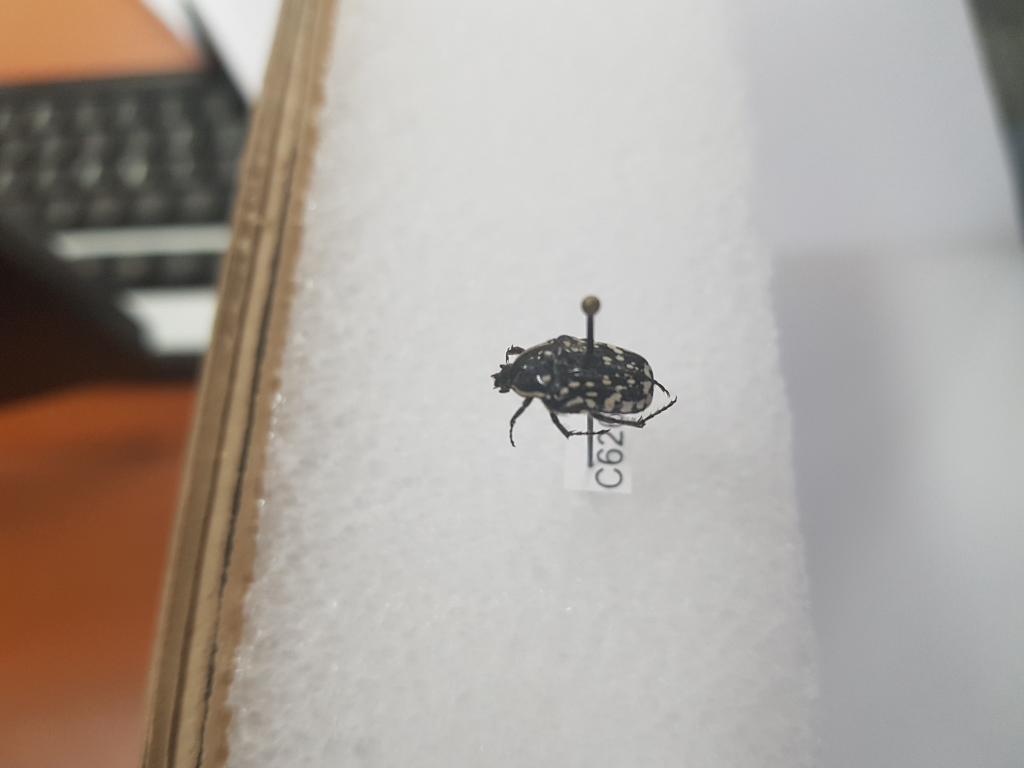Oxythyrea_funesta: (494, 331, 689, 447)
